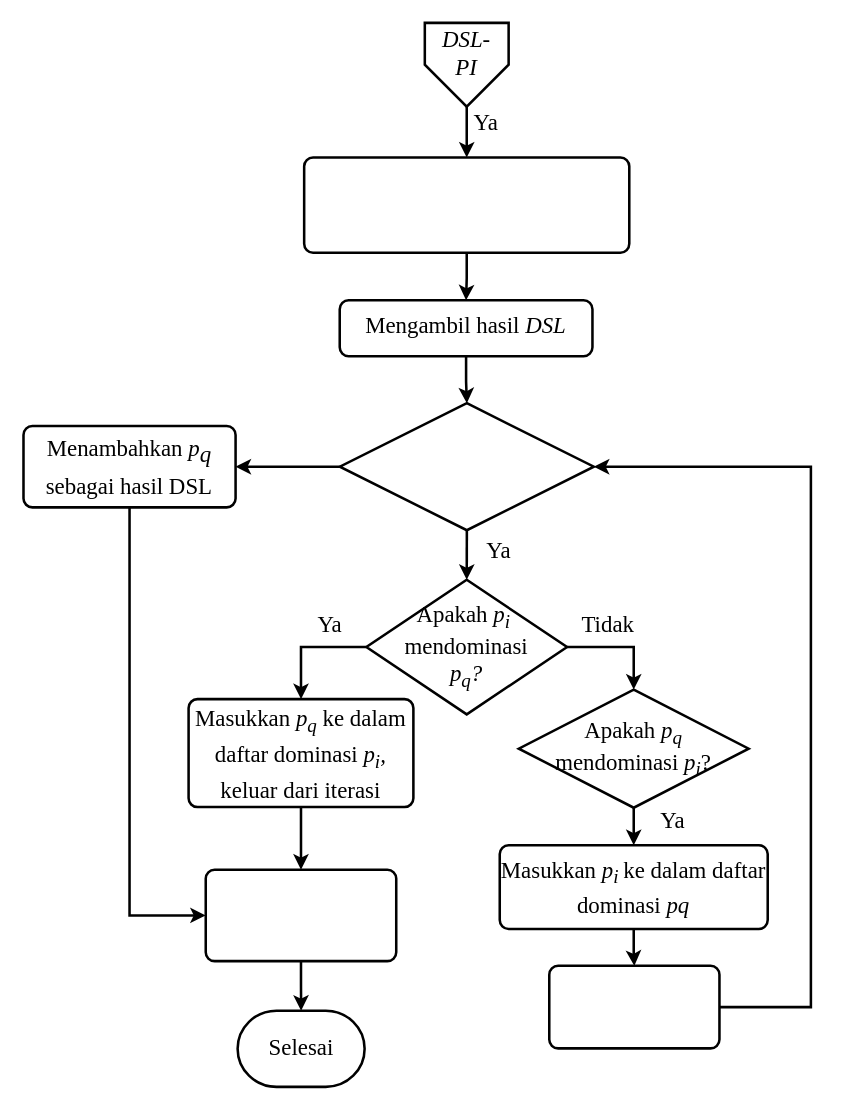
The diagram is 843 pixels wide and 1110 high, and some of its shapes have lost their labels. Here are the shapes that lost their labels. From the top down, the centre of each, then its label:
At [466,204]: "Menghitung selisih absolut antar produk kueri p q dan pelanggan".
At [466,466]: "i <= Jumlah data DSL ?".
At [300,915]: "Mengembalikan hasil DSL".
At [633,1006]: "Hapus p i dari hasil DSL".
